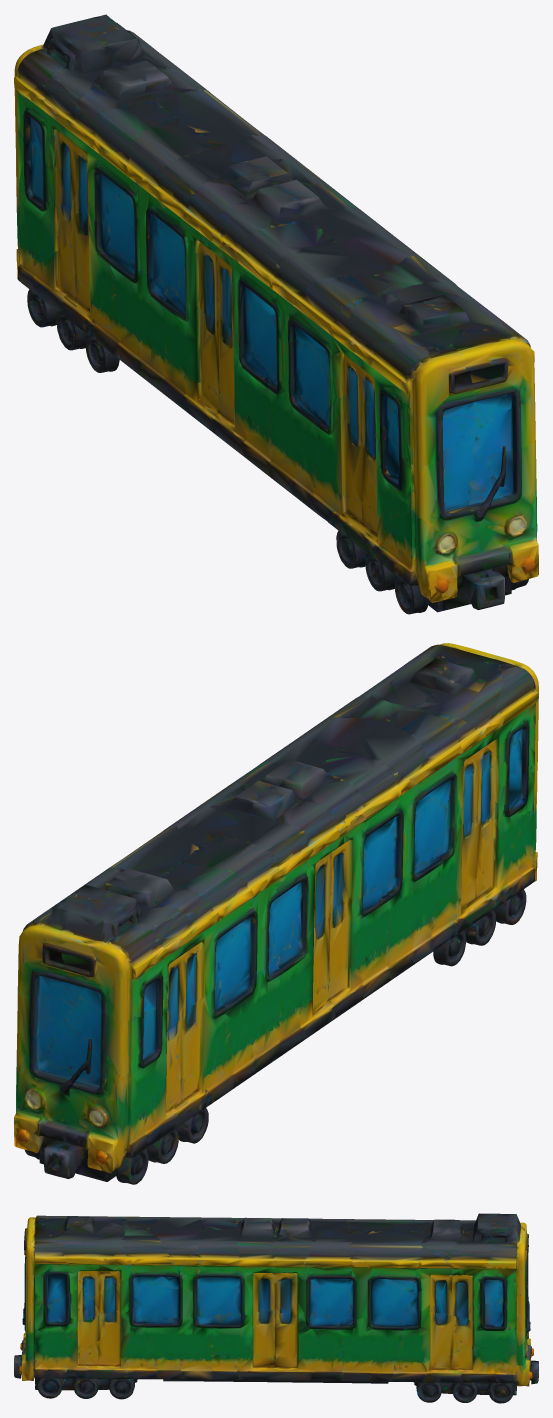
The model's file is Train.mobile.glb.
3 views of the same model, one above another, from view 1: azimuth 30°, elevation 25°; view 2: azimuth 150°, elevation 25°; view 3: azimuth 270°, elevation 25° (orthographic). The views are drawn at different scales.
Visible parts, largest first — view 1: Train_005; view 2: Train_005; view 3: Train_005.
Boxes of the visible parts, x1,y1,x2,y2 form: Train_005: [14, 14, 538, 614]; Train_005: [14, 643, 538, 1184]; Train_005: [14, 1213, 538, 1403].
Bounding box in the file's own units: 0.3641 × 0.6675 × 1.9.
